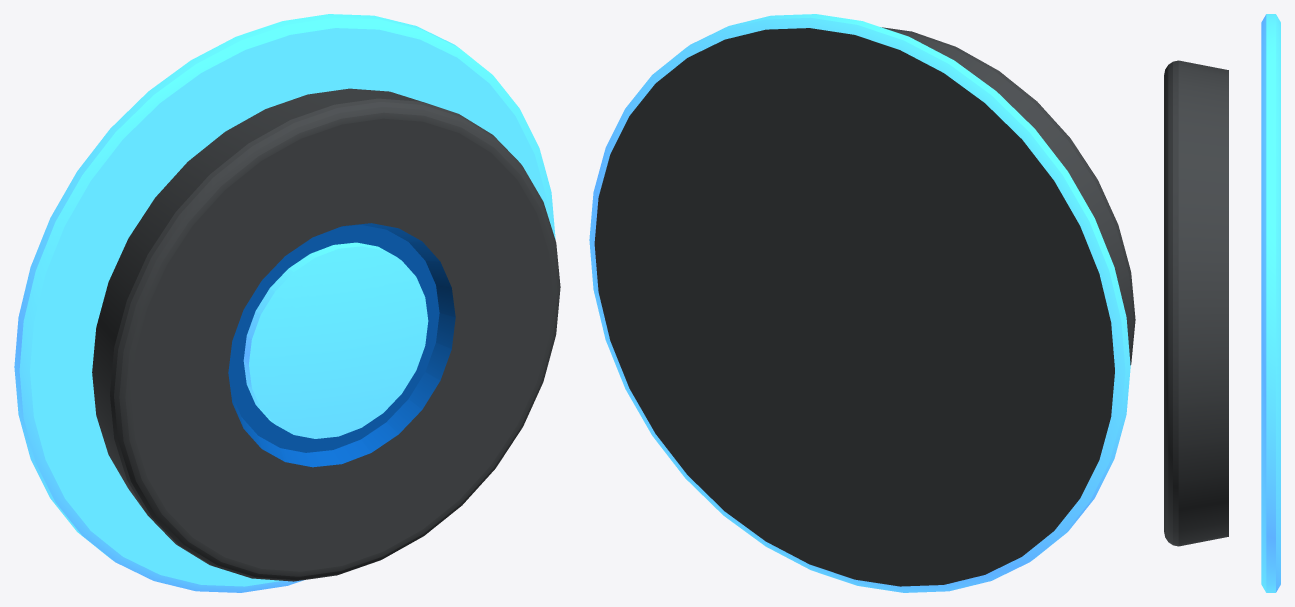
Rendered from radio-button-049d31.glb.
The picture shows the model from 3 angles, left to right: view 1: azimuth 30°, elevation 25°; view 2: azimuth 150°, elevation 25°; view 3: azimuth 270°, elevation 25°; orthographic projection. The views are drawn at different scales.
Visible parts, largest first — view 1: radio, radio-glow; view 2: radio, radio-glow; view 3: radio, radio-glow.
Boxes of the visible parts, bbox=[...] form: radio: bbox=[92, 88, 560, 581]; radio-glow: bbox=[14, 14, 555, 592]; radio: bbox=[594, 27, 1135, 586]; radio-glow: bbox=[589, 14, 1130, 592]; radio: bbox=[1164, 60, 1228, 546]; radio-glow: bbox=[1261, 14, 1280, 592].
Bounding box in the file's own units: 0.0358 × 0.0358 × 0.0072.
